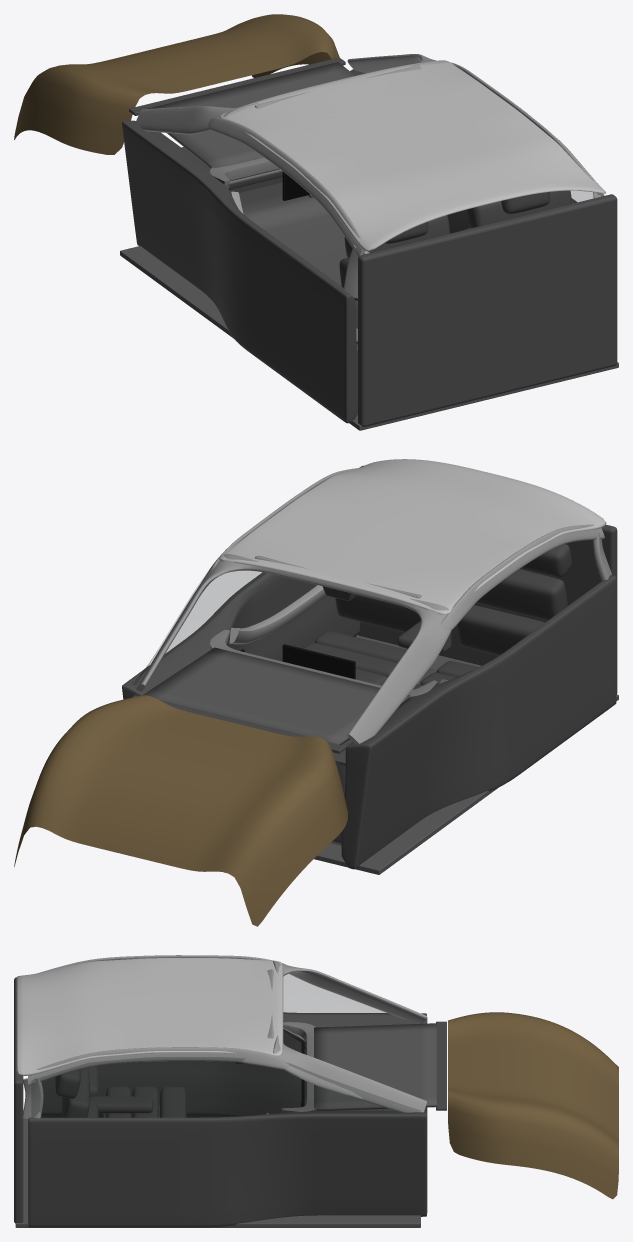
The model's file is cabin.939e3865.glb.
3 views of the same model, one above another, from view 1: azimuth 30°, elevation 25°; view 2: azimuth 150°, elevation 25°; view 3: azimuth 270°, elevation 25° (orthographic). The views are drawn at different scales.
Parts seen in each view (by area): view 1: Cabin; view 2: Cabin, Glass; view 3: Cabin, Glass.
Boxes of the visible parts, left/top/right/bottom form: Cabin: left=14, top=14, right=618, bottom=430; Cabin: left=14, top=459, right=618, bottom=926; Glass: left=133, top=568, right=265, bottom=684; Cabin: left=14, top=955, right=618, bottom=1227; Glass: left=31, top=974, right=420, bottom=1117.
Bounding box in the file's own units: 1.72 × 1.21 × 3.82.
